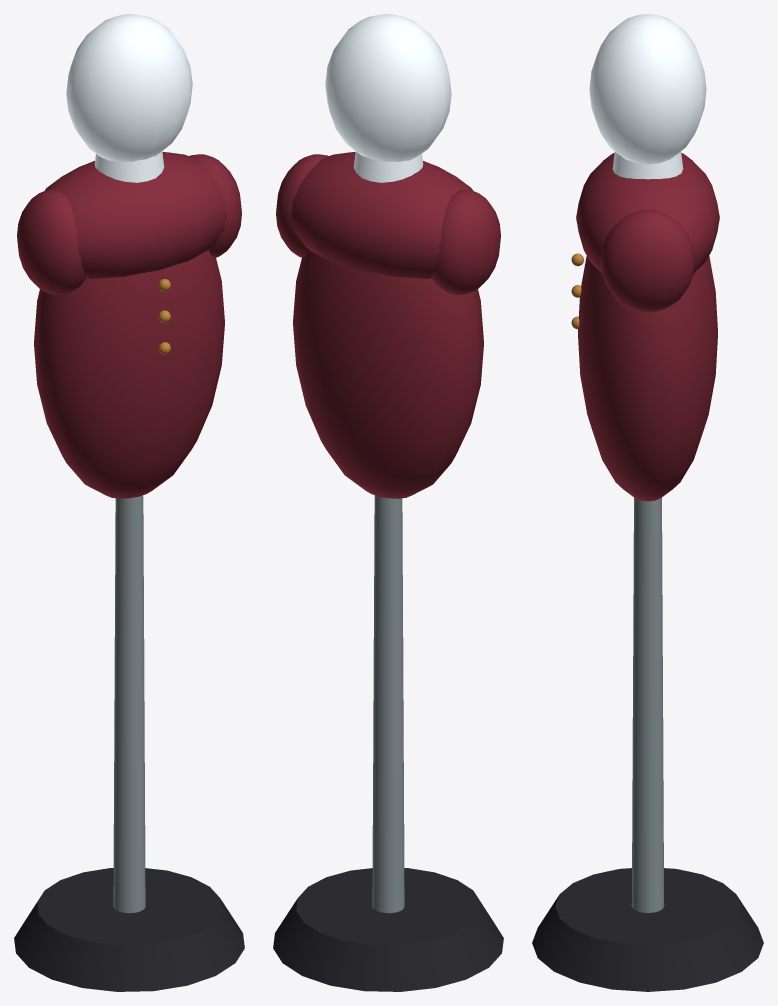
Rendered from mia-mannequin_row.glb.
The picture shows the model from 3 angles, left to right: view 1: azimuth 30°, elevation 25°; view 2: azimuth 150°, elevation 25°; view 3: azimuth 270°, elevation 25°; orthographic projection.
Visible parts, largest first — view 1: Body_velvet, Body_iron, Body_porcelain, Body_steel; view 2: Body_velvet, Body_iron, Body_porcelain, Body_steel; view 3: Body_velvet, Body_iron, Body_porcelain, Body_steel.
Part boxes in pixels (bbox=[...]): Body_velvet: bbox=[17, 152, 241, 498]; Body_iron: bbox=[14, 868, 244, 991]; Body_porcelain: bbox=[66, 14, 192, 182]; Body_steel: bbox=[113, 495, 145, 913]; Body_velvet: bbox=[276, 152, 500, 498]; Body_iron: bbox=[273, 868, 503, 991]; Body_porcelain: bbox=[325, 14, 451, 182]; Body_steel: bbox=[372, 495, 404, 913]; Body_velvet: bbox=[576, 153, 719, 501]; Body_iron: bbox=[532, 868, 763, 991]; Body_porcelain: bbox=[589, 14, 706, 179]; Body_steel: bbox=[631, 497, 664, 912].
Bounding box in the file's own units: 0.418 × 1.76 × 0.4.
